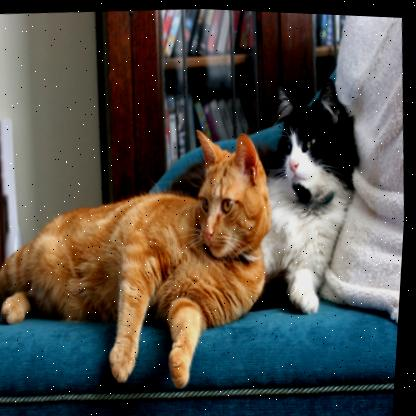cat: (32, 125, 280, 329), (265, 78, 353, 276)
